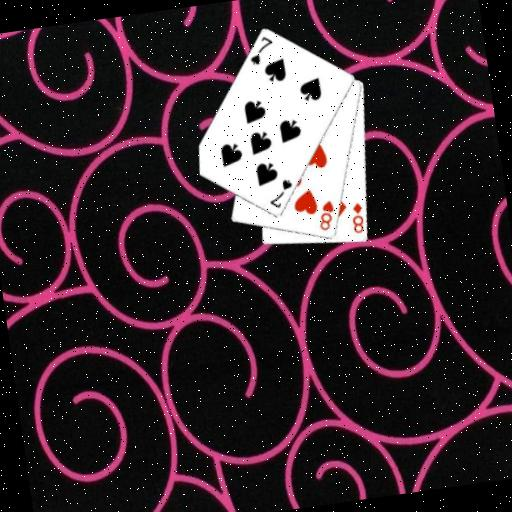7S: (264, 176, 297, 212), (244, 33, 277, 68)
8D: (347, 199, 367, 236)
8H: (314, 197, 339, 233)
